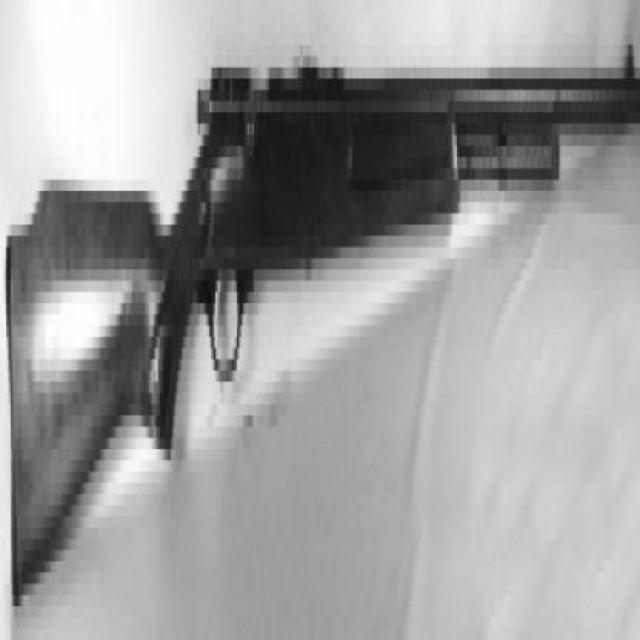weapon: (6, 41, 640, 611)
